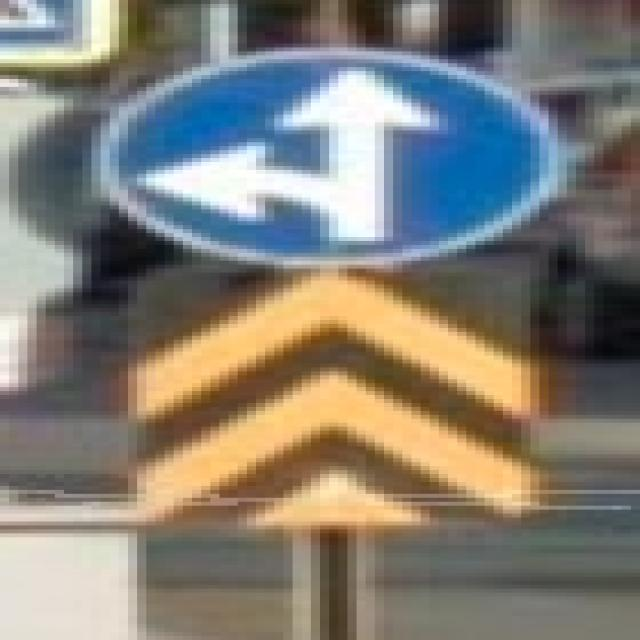Straight or Left: (102, 50, 559, 268)
